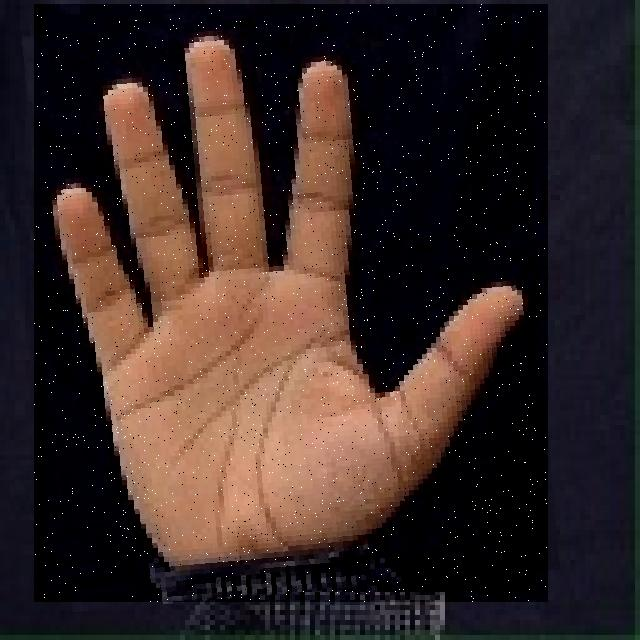Yes: (34, 4, 548, 602)
